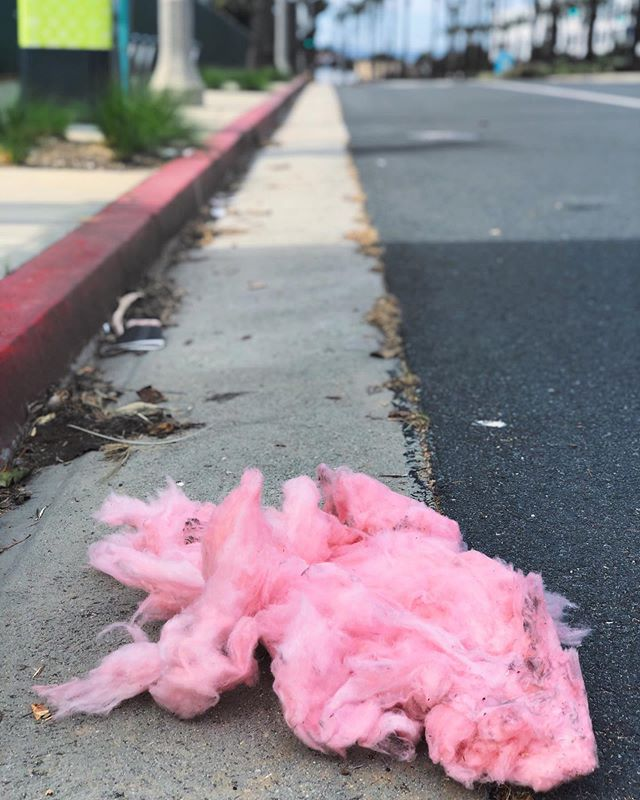street: (32, 57, 640, 783)
trash: (66, 425, 640, 800)
